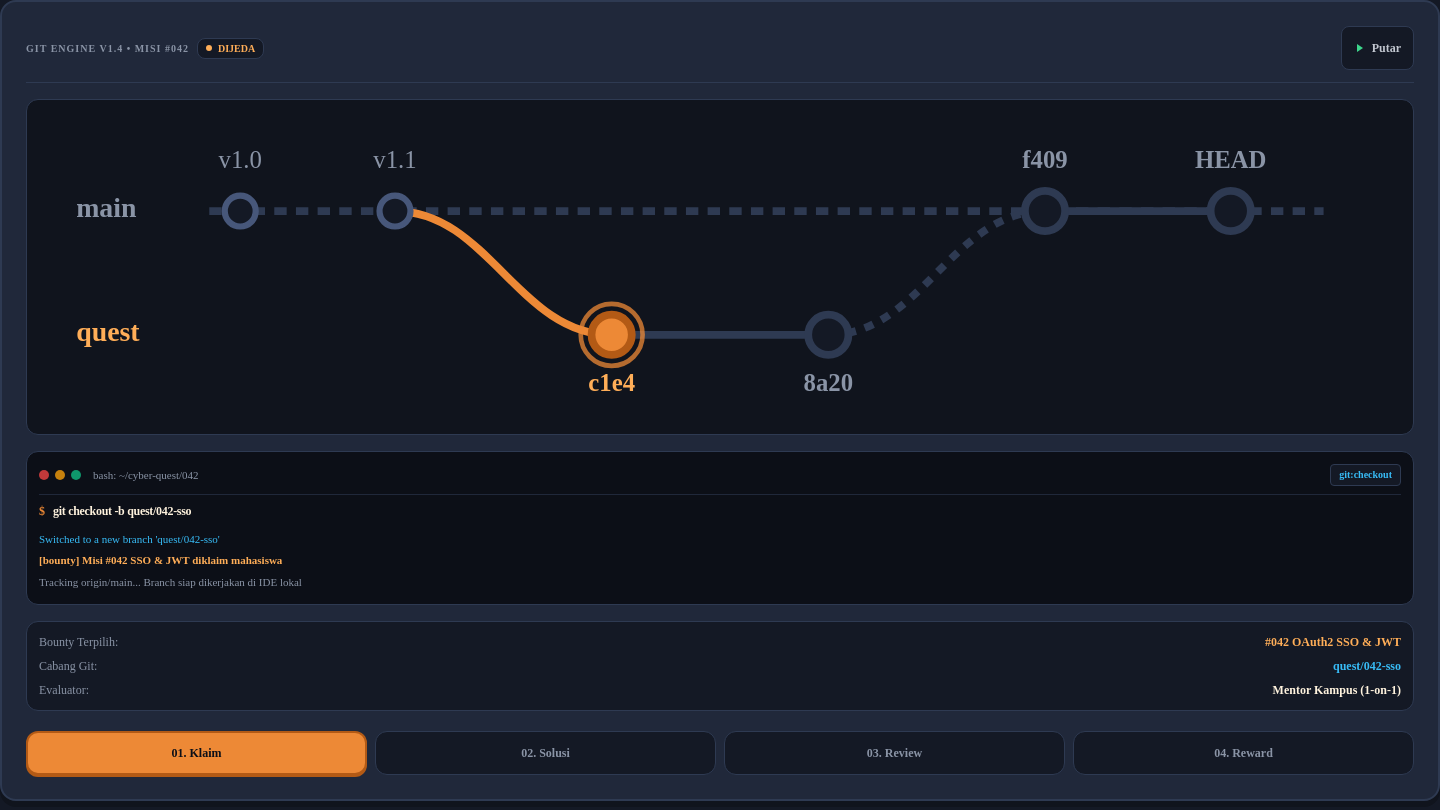
TactileHeroEngine Component › allows manual clicking between phase tabs
Click the tab "03. Review".
click(894, 753)  # box top-left (724, 731), bottom-right (1065, 775)
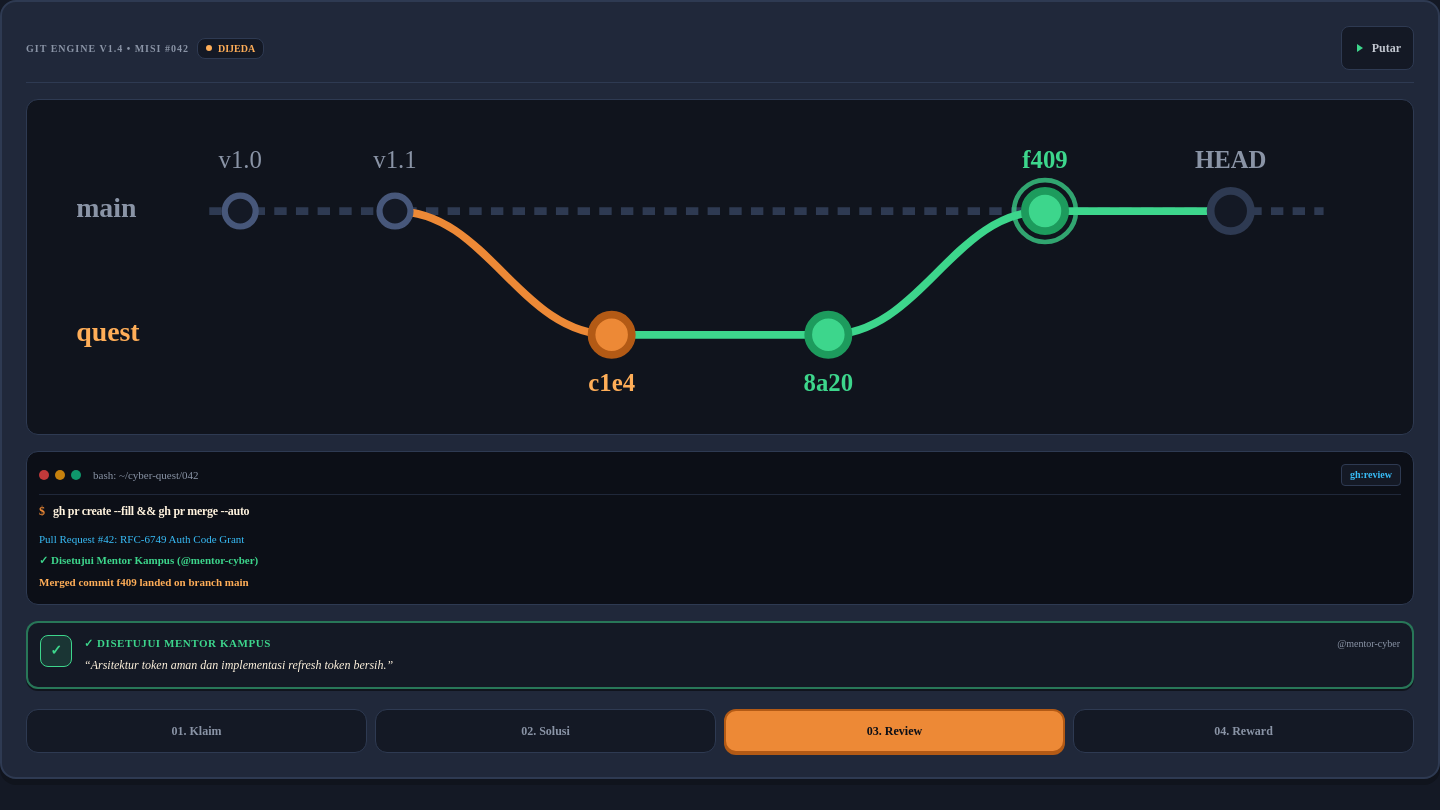
Result: the element with test id "mentor-stamp-card" is shown at top-left (26, 621), bottom-right (1414, 689)
Click the tab "04. Reward".
click(1244, 731)  # box top-left (1073, 709), bottom-right (1414, 753)
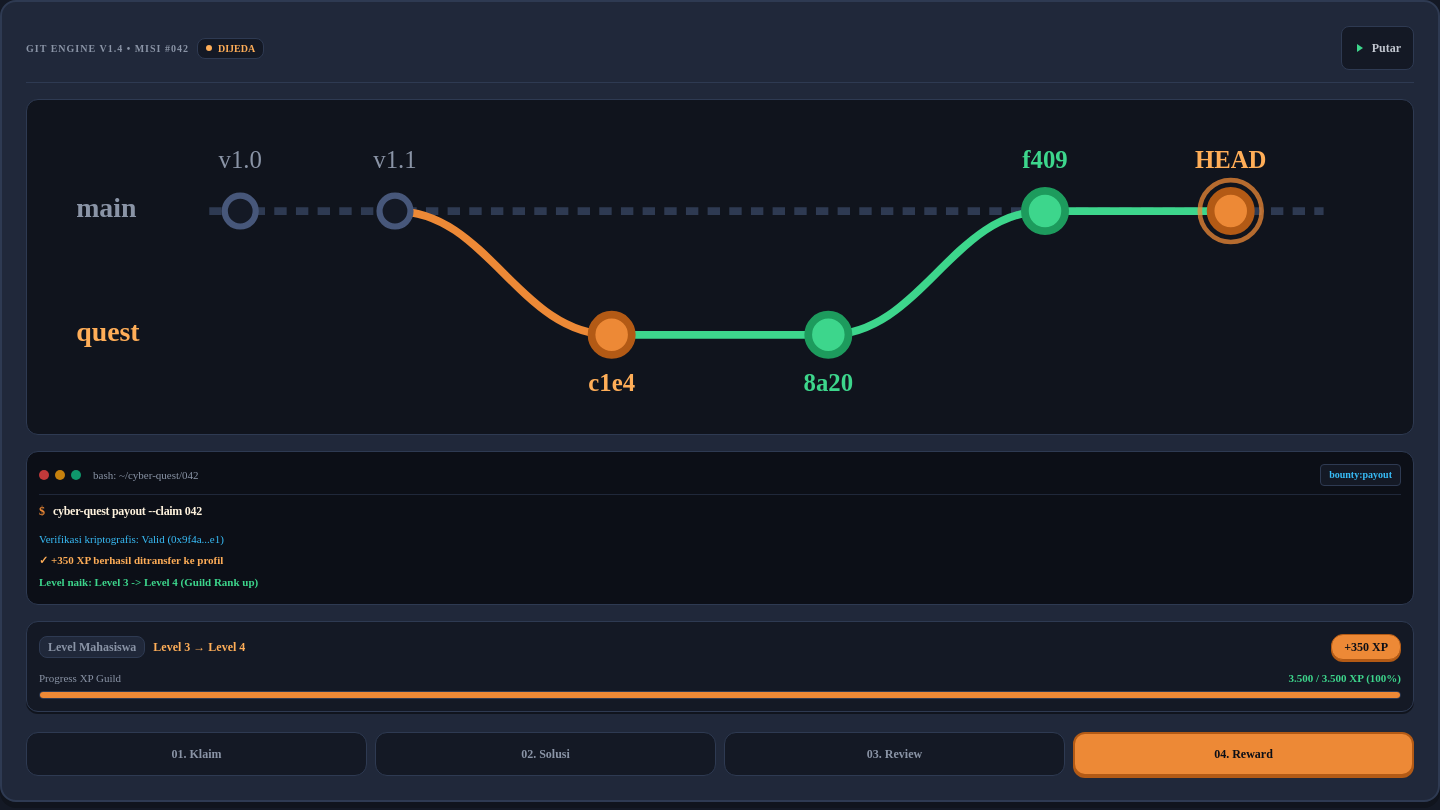
Result: the element with test id "reward-payout-card" is shown at top-left (26, 621), bottom-right (1414, 712)
Click the tab "02. Solusi".
click(546, 754)  # box top-left (375, 732), bottom-right (716, 776)
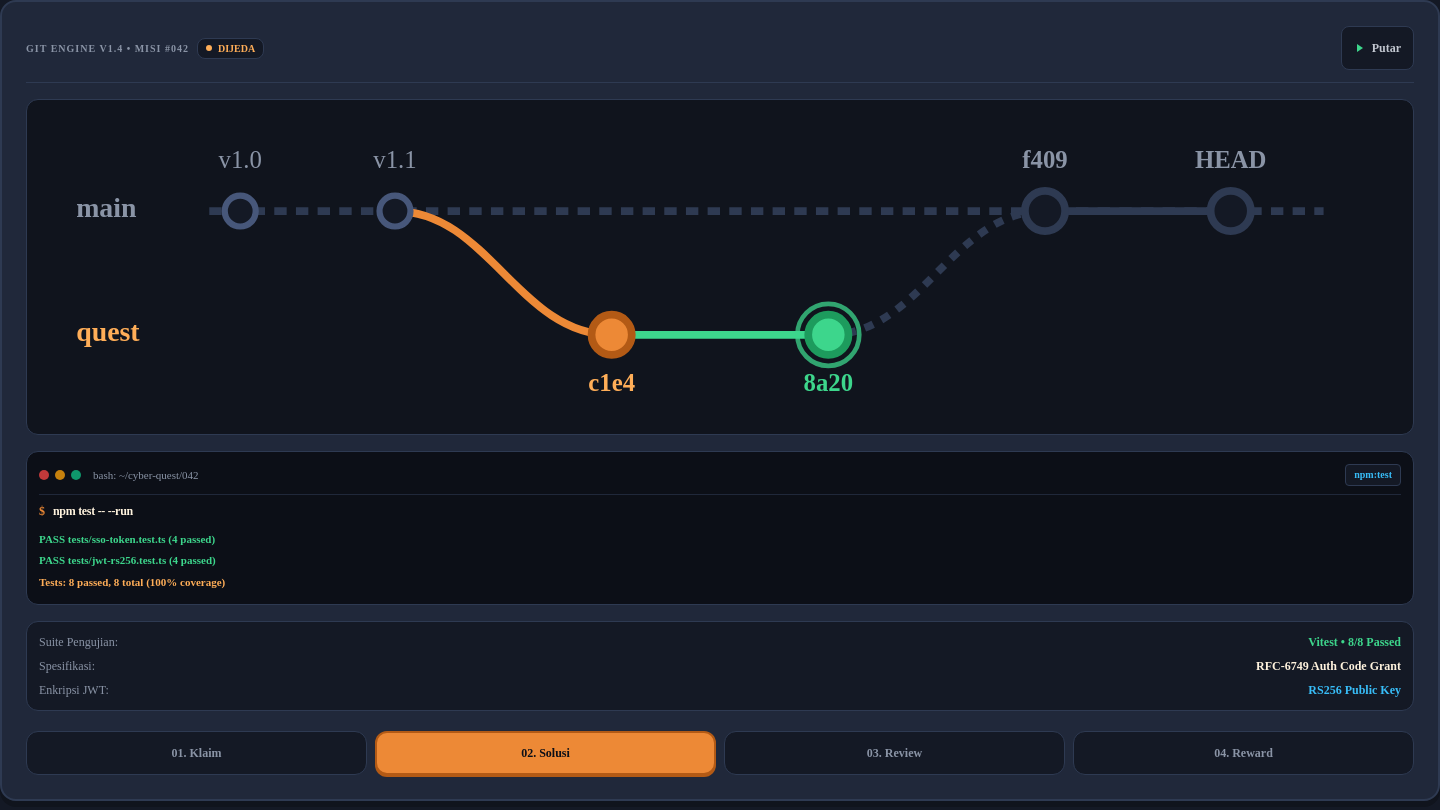
Result: the text "Vitest • 8/8 Passed" is shown at top-left (1308, 634), bottom-right (1401, 650)
